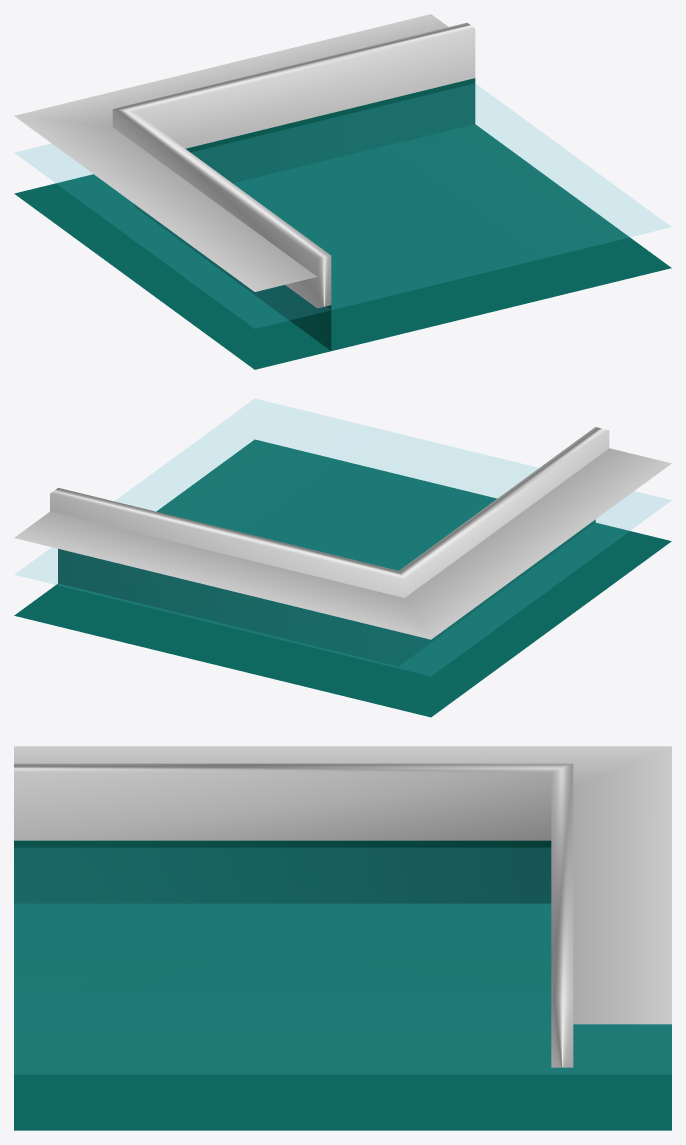
File: Water_08.glb
3 renders of one model, top to bottom at view 1: azimuth 30°, elevation 25°; view 2: azimuth 150°, elevation 25°; view 3: azimuth 270°, elevation 25°, orthographic. The views are drawn at different scales.
Visible parts, largest first — view 1: Water_08; view 2: Water_08; view 3: Water_08.
Part boxes in pixels (box(x1,y1,x2,y2)): Water_08: box(14, 14, 671, 369); Water_08: box(14, 399, 671, 717); Water_08: box(14, 746, 671, 1130).
Size of the model in its own units: 15 by 3.29 by 15.
Materials: 2 (2 with a texture image).
